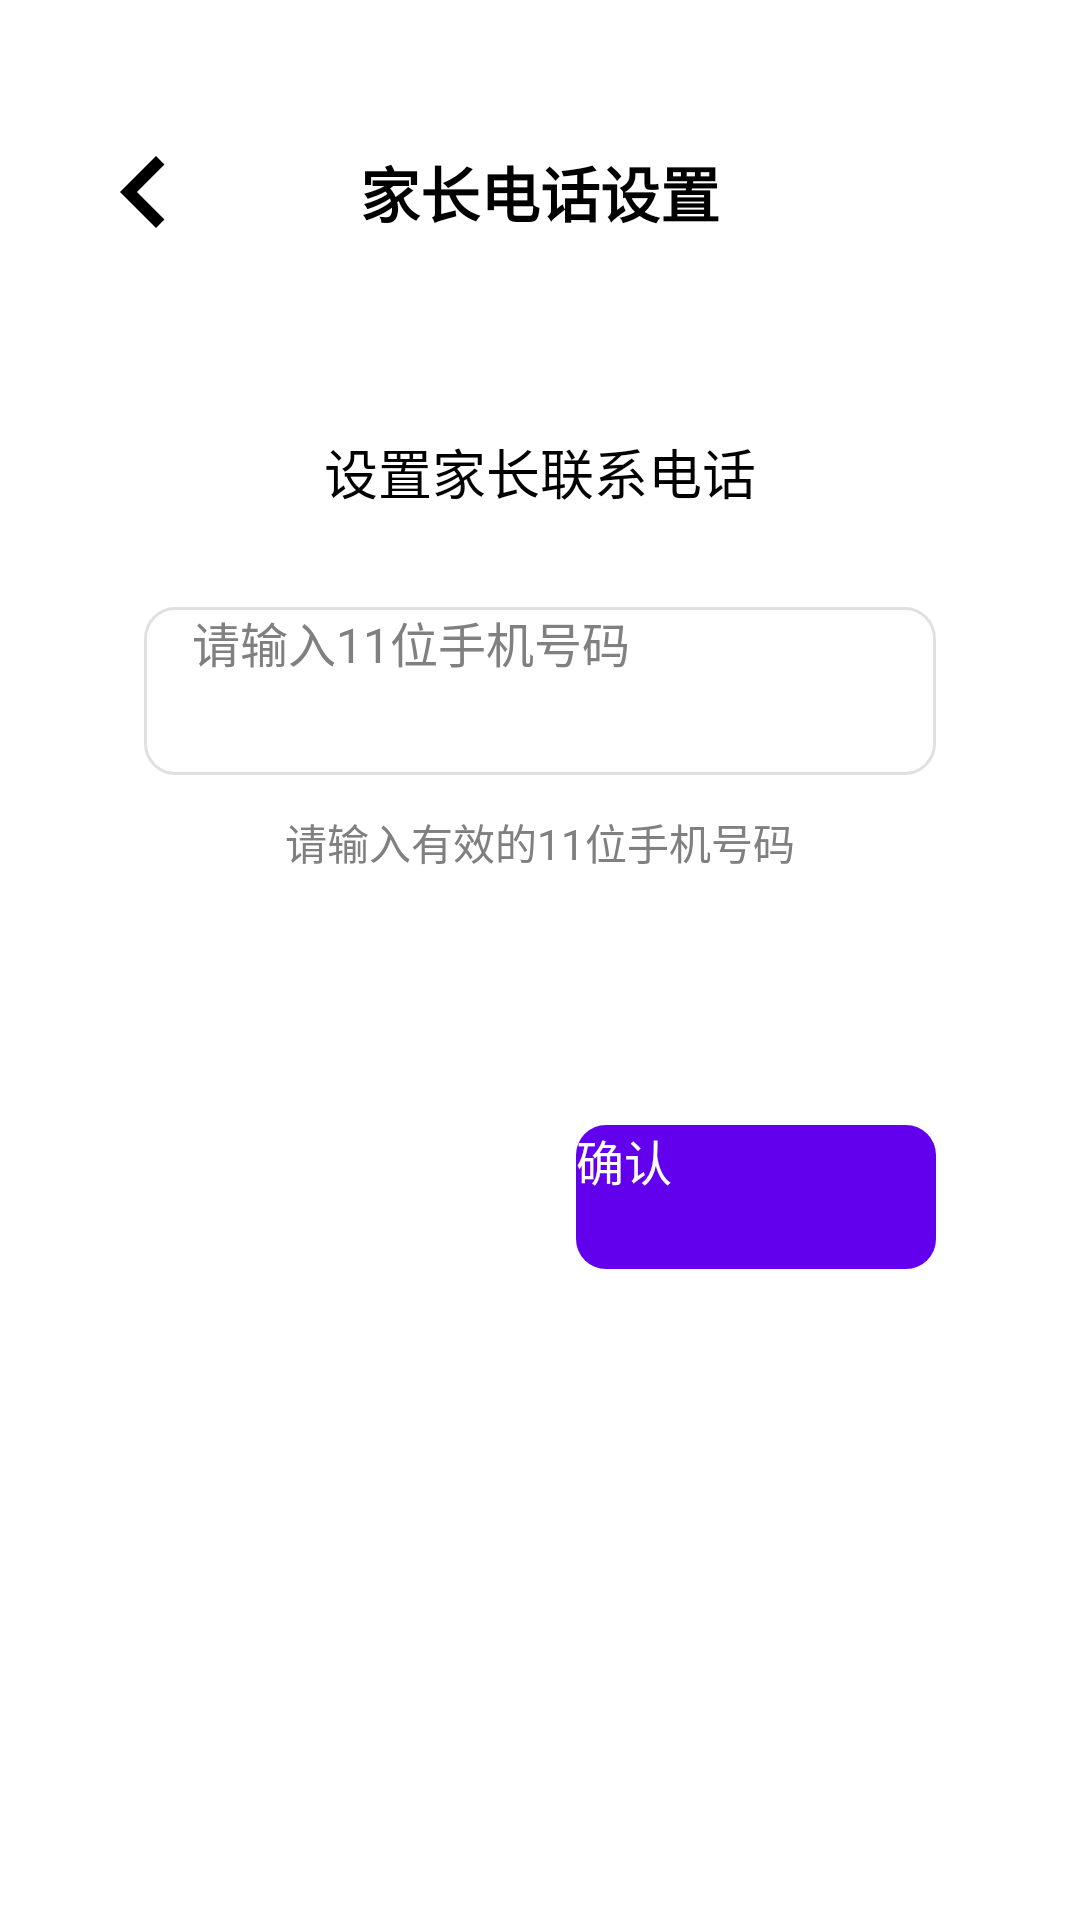

Icon click points for this 1080x1920 phone screenshot, format [x,y]:
back: [142,192]
